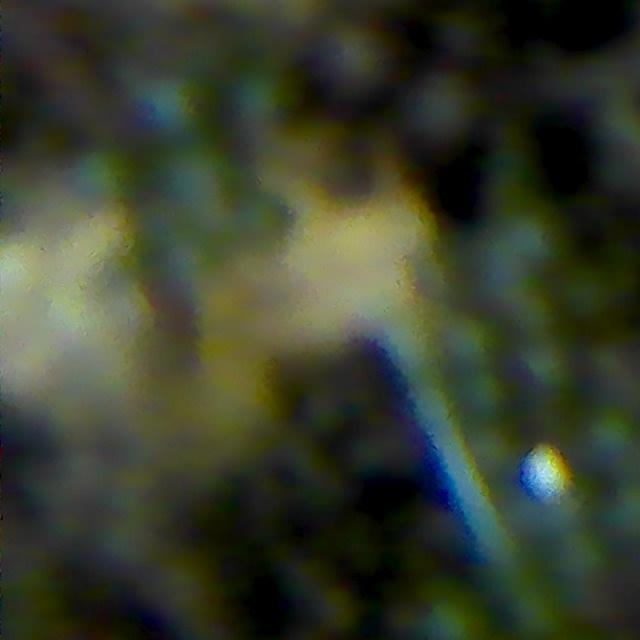SeaGrape: (479, 207, 564, 293), (158, 145, 237, 228), (404, 68, 478, 147), (315, 22, 391, 98), (132, 69, 202, 137), (229, 69, 292, 130), (433, 6, 492, 61), (518, 334, 574, 391), (440, 313, 495, 369), (584, 410, 637, 467), (420, 595, 485, 640), (454, 368, 507, 420)
